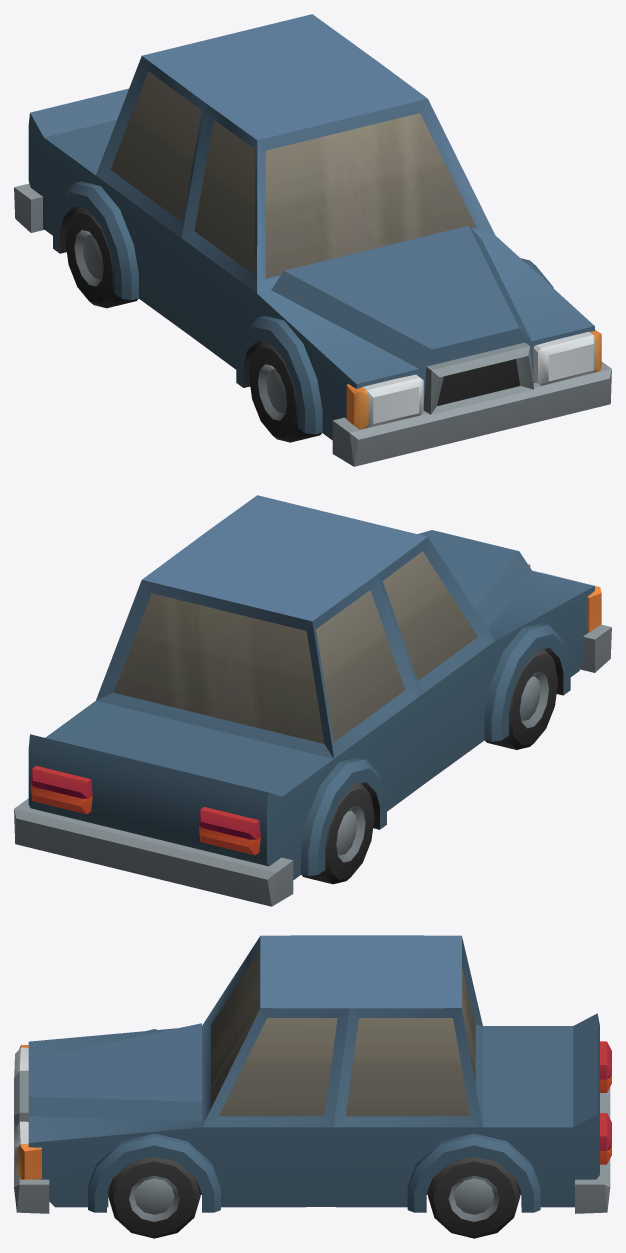
The model's file is car.glb.
3 renders of one model, top to bottom at view 1: azimuth 30°, elevation 25°; view 2: azimuth 150°, elevation 25°; view 3: azimuth 270°, elevation 25°, orthographic. The views are drawn at different scales.
Visible parts, largest first — view 1: car_sedan; view 2: car_sedan; view 3: car_sedan.
Boxes of the visible parts, box(x1,y1,x2,y2) form: car_sedan: box(14, 14, 611, 466); car_sedan: box(14, 495, 611, 906); car_sedan: box(14, 935, 611, 1238).
Size of the model in its own units: 0.419 by 0.3688 by 0.9381.
1 material, 1 textured.
